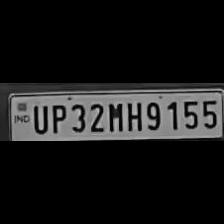1: (163, 98, 179, 132)
2: (87, 100, 105, 134)
3: (68, 100, 86, 134)
5: (180, 97, 198, 129), (200, 97, 218, 129)
9: (143, 98, 161, 132)
H: (124, 98, 142, 132)
M: (104, 100, 124, 132)
P: (48, 102, 66, 134)
U: (30, 102, 48, 134)
